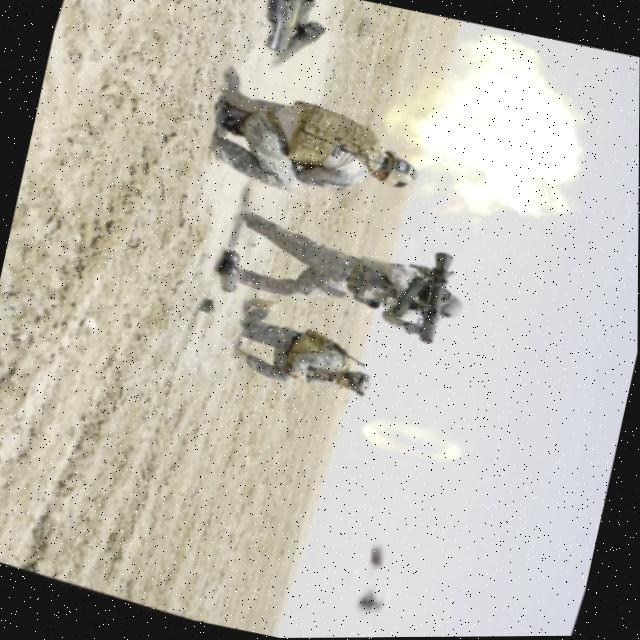rocket: (401, 243, 466, 352)
